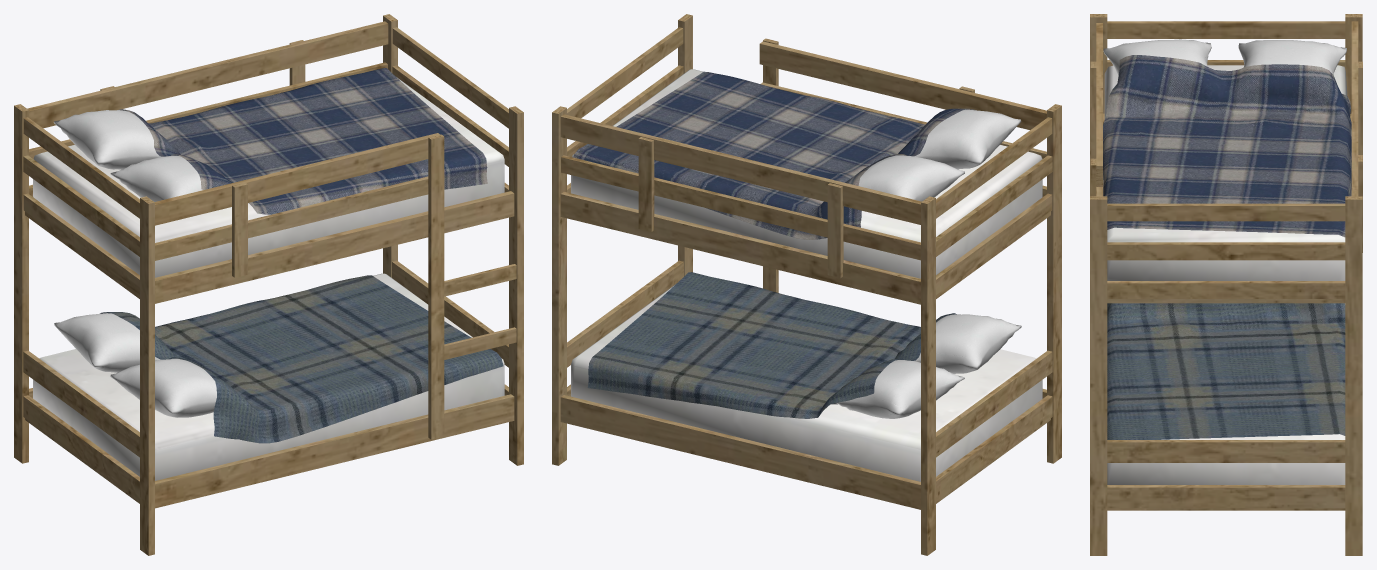
File: bunk.glb
3 renders of one model, left to right at view 1: azimuth 30°, elevation 25°; view 2: azimuth 150°, elevation 25°; view 3: azimuth 270°, elevation 25°, orthographic.
Visible parts, largest first — view 1: Object_2, Object_3, Object_4, Object_8, Object_5, Object_6, Object_7; view 2: Object_2, Object_3, Object_4, Object_8, Object_5, Object_6, Object_7; view 3: Object_2, Object_4, Object_3, Object_5, Object_8, Object_7.
Boxes of the visible parts, left/top/right/bottom form: Object_2: left=14, top=14, right=523, bottom=555; Object_3: left=100, top=275, right=503, bottom=443; Object_4: left=119, top=68, right=487, bottom=214; Object_8: left=33, top=273, right=504, bottom=480; Object_5: left=33, top=77, right=504, bottom=277; Object_6: left=54, top=313, right=216, bottom=417; Object_7: left=53, top=110, right=202, bottom=201; Object_2: left=552, top=14, right=1061, bottom=555; Object_3: left=587, top=272, right=956, bottom=418; Object_4: left=573, top=71, right=975, bottom=239; Object_8: left=571, top=284, right=1042, bottom=481; Object_5: left=571, top=69, right=1042, bottom=278; Object_6: left=836, top=314, right=1021, bottom=418; Object_7: left=858, top=109, right=1021, bottom=201; Object_2: left=1090, top=14, right=1362, bottom=555; Object_4: left=1103, top=55, right=1351, bottom=237; Object_3: left=1107, top=303, right=1345, bottom=439; Object_5: left=1104, top=65, right=1347, bottom=280; Object_8: left=1107, top=303, right=1345, bottom=484; Object_7: left=1103, top=39, right=1346, bottom=74.
Bounding box in the file's own units: 17.2 × 15.4 × 10.69.
Materials: 7 (7 with a texture image).
